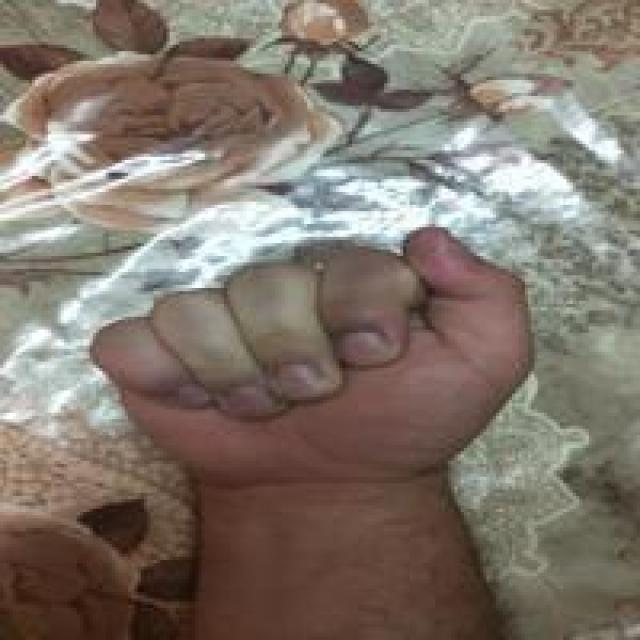A: (90, 213, 538, 552)
